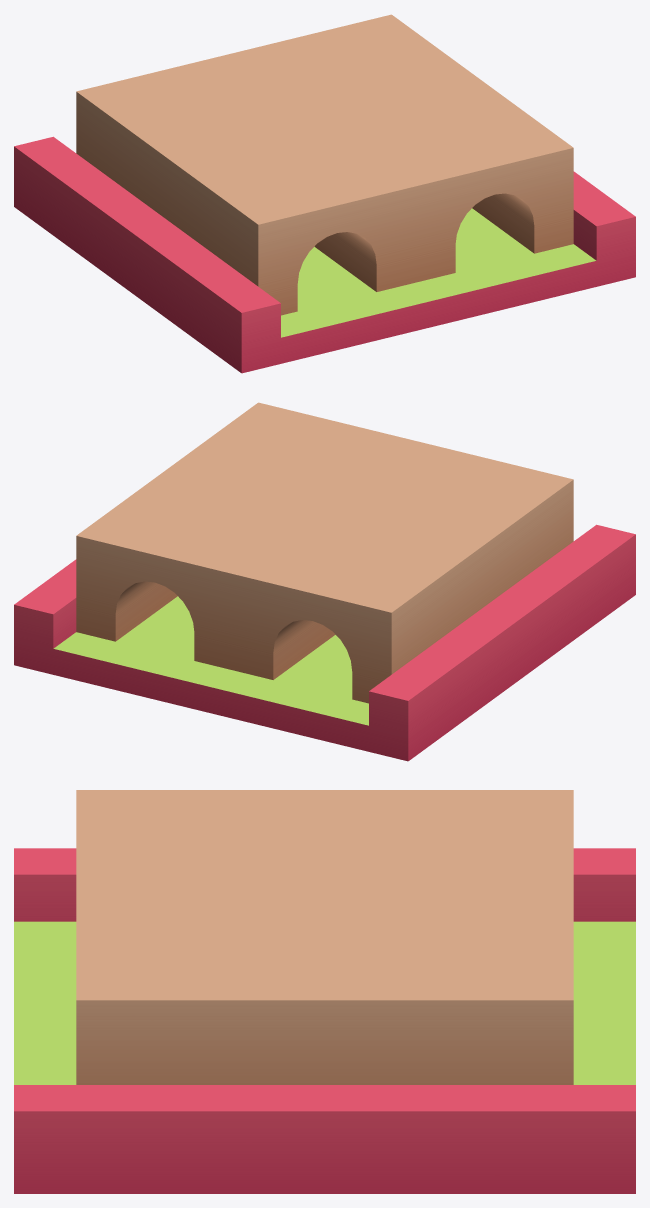
File: tunnel-double.gltf
The picture shows the model from 3 angles, top to bottom: view 1: azimuth 30°, elevation 25°; view 2: azimuth 150°, elevation 25°; view 3: azimuth 270°, elevation 25°; orthographic projection. The views are drawn at different scales.
Parts seen in each view (by area): view 1: tunnel-double; view 2: tunnel-double; view 3: tunnel-double.
Part boxes in pixels (x1,y1,x2,y2): tunnel-double: (14,14,635,373); tunnel-double: (14,402,635,761); tunnel-double: (14,790,635,1193).
Bounding box in the file's own units: 0.9999 × 0.2966 × 0.9999.
1 material, 1 textured.
